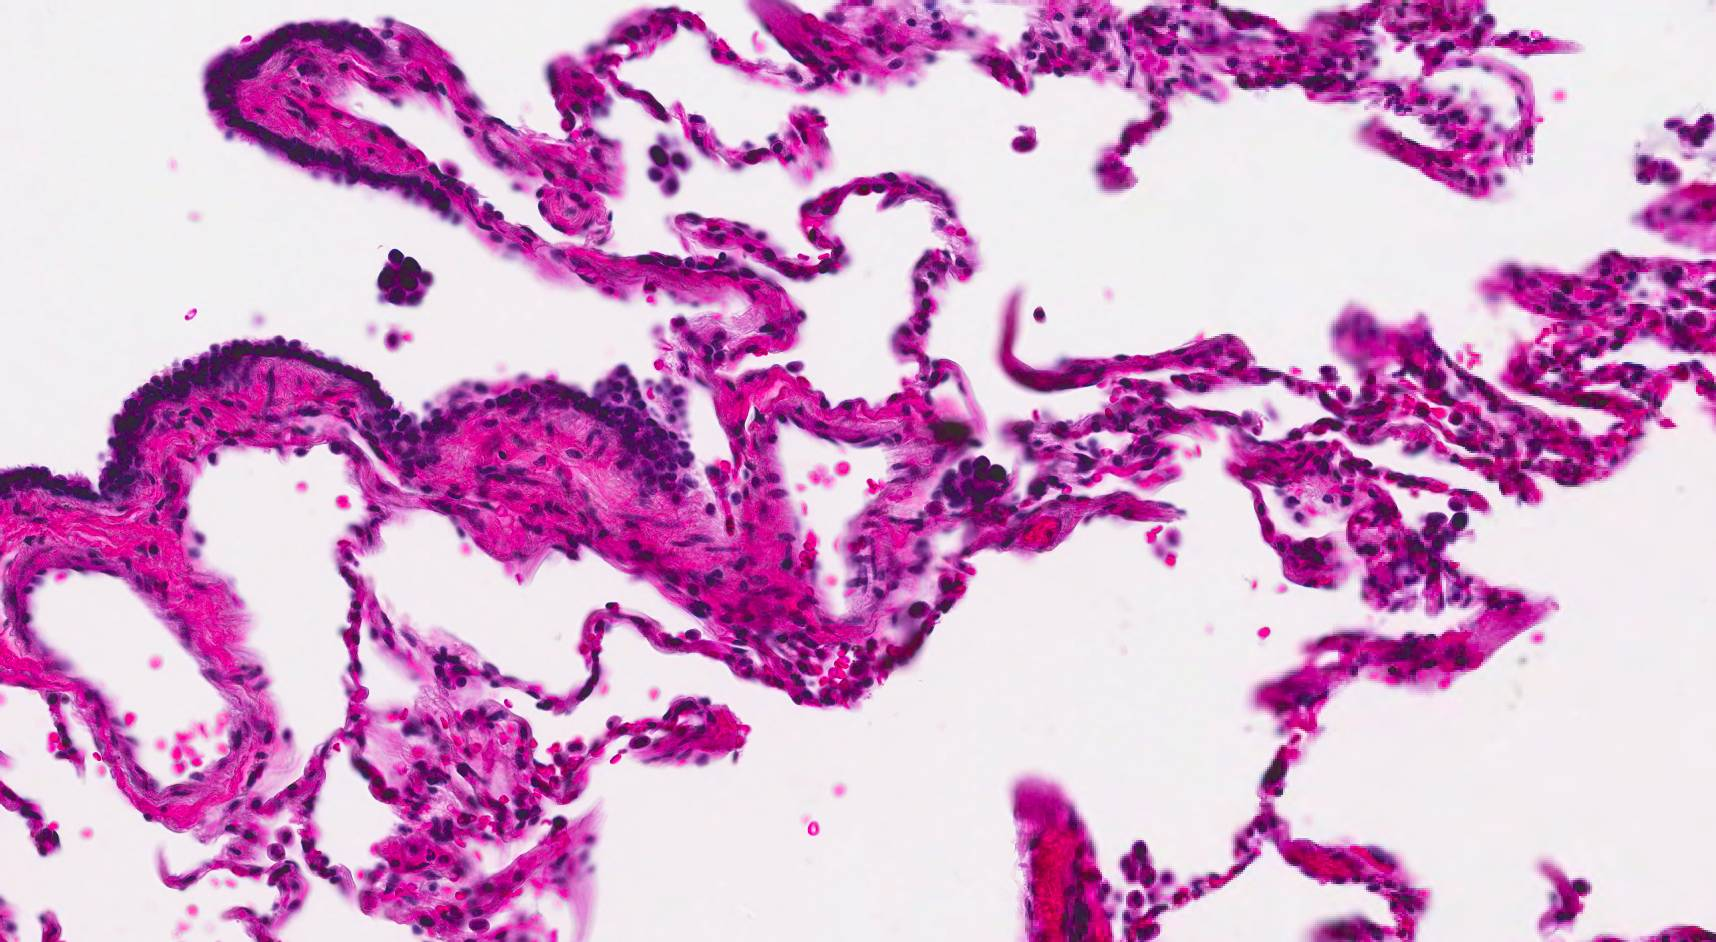stas: (935, 450, 1017, 510), (374, 240, 436, 309), (641, 136, 701, 196)
